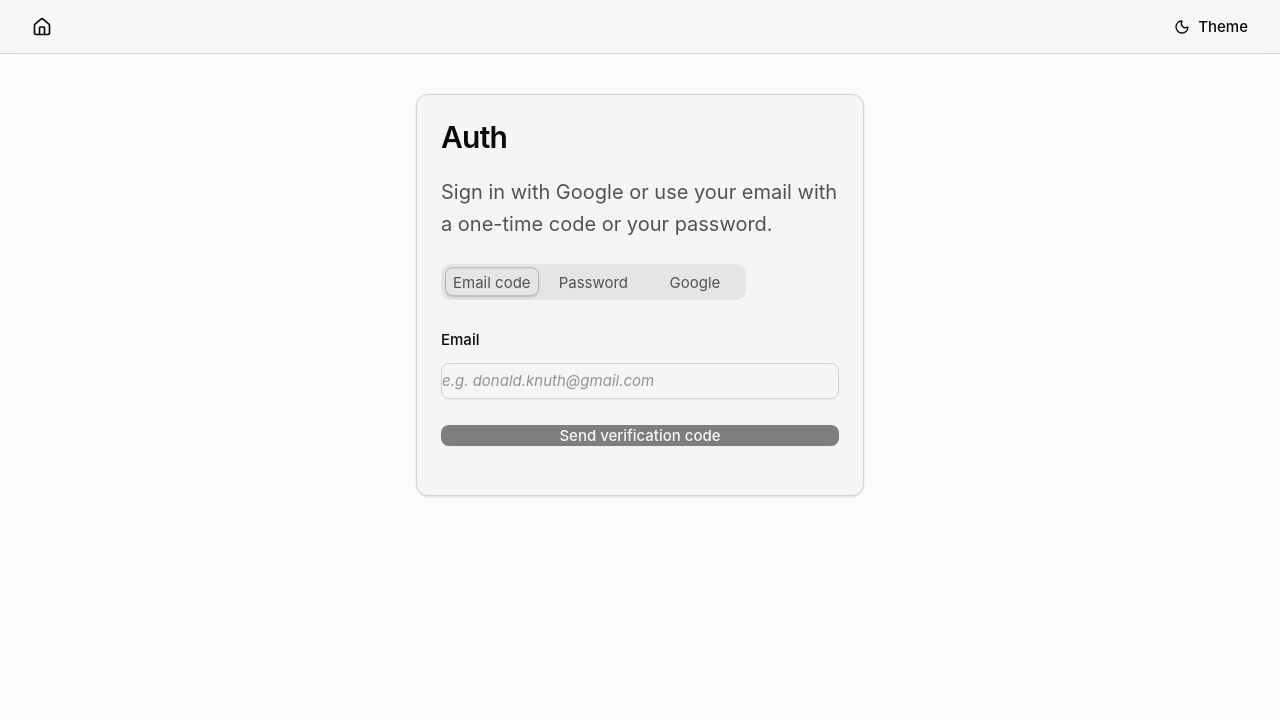
Test: SignIn › requests a verification code for a valid email
Type "ada@gen.new" into the field labelled "Email".
click(640, 381); type("ada@gen.new")  # box [441, 363, 839, 399]
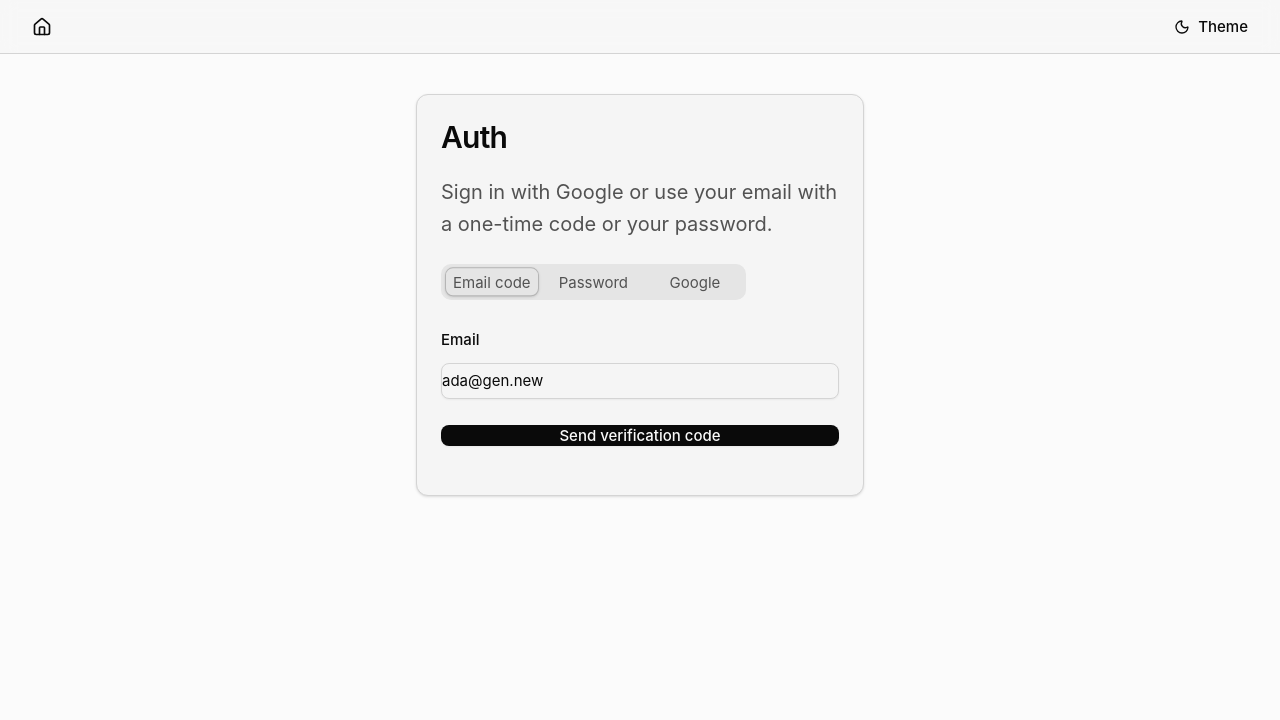
Click the button "Send verification code".
click(640, 435)  # box [441, 425, 839, 446]
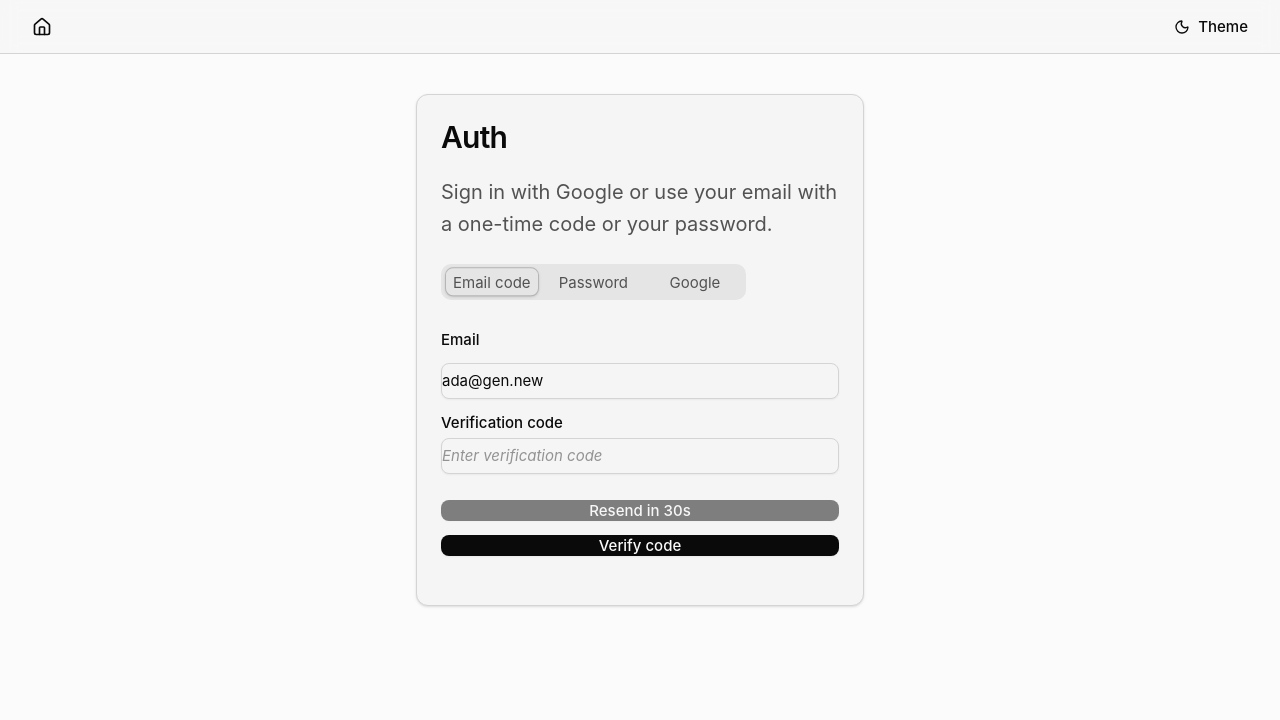
Check: the field labelled "Verification code" is shown, box [441, 438, 839, 474]
